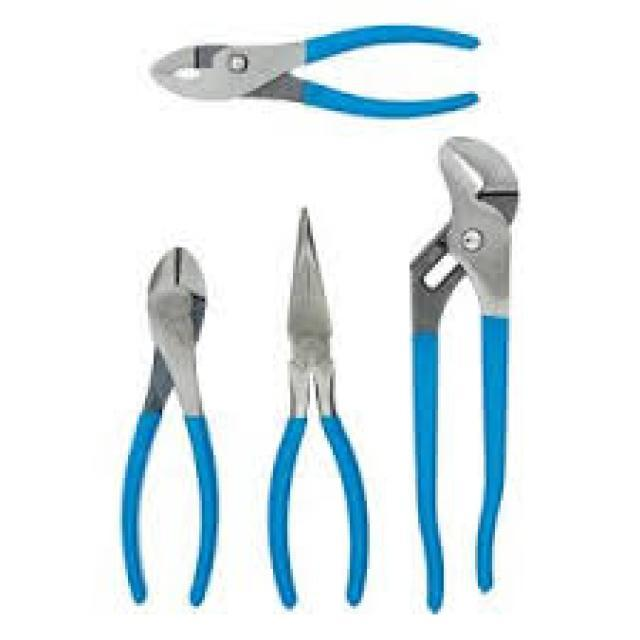pliers: (404, 131, 526, 622), (258, 202, 378, 616), (114, 240, 226, 610), (148, 20, 486, 126)
